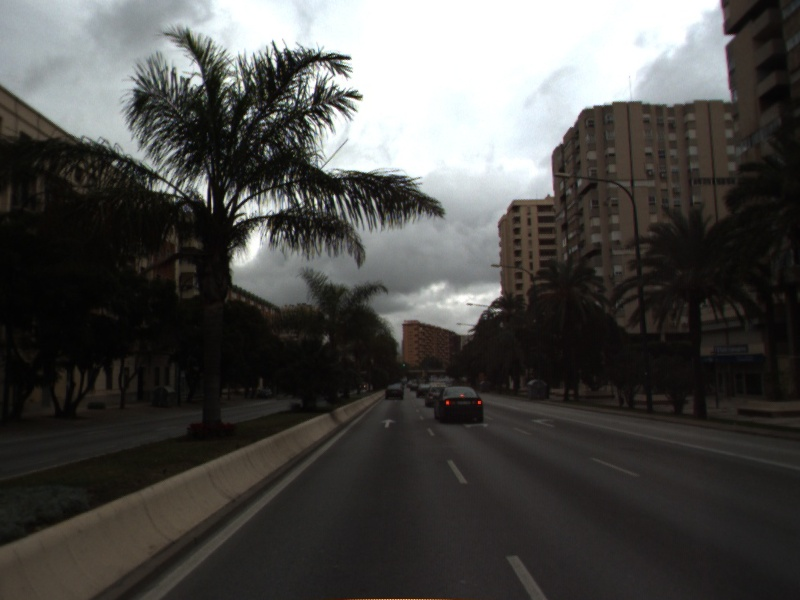RIGHT: (529, 416, 559, 430)
STRAIGHT: (378, 417, 399, 430)
